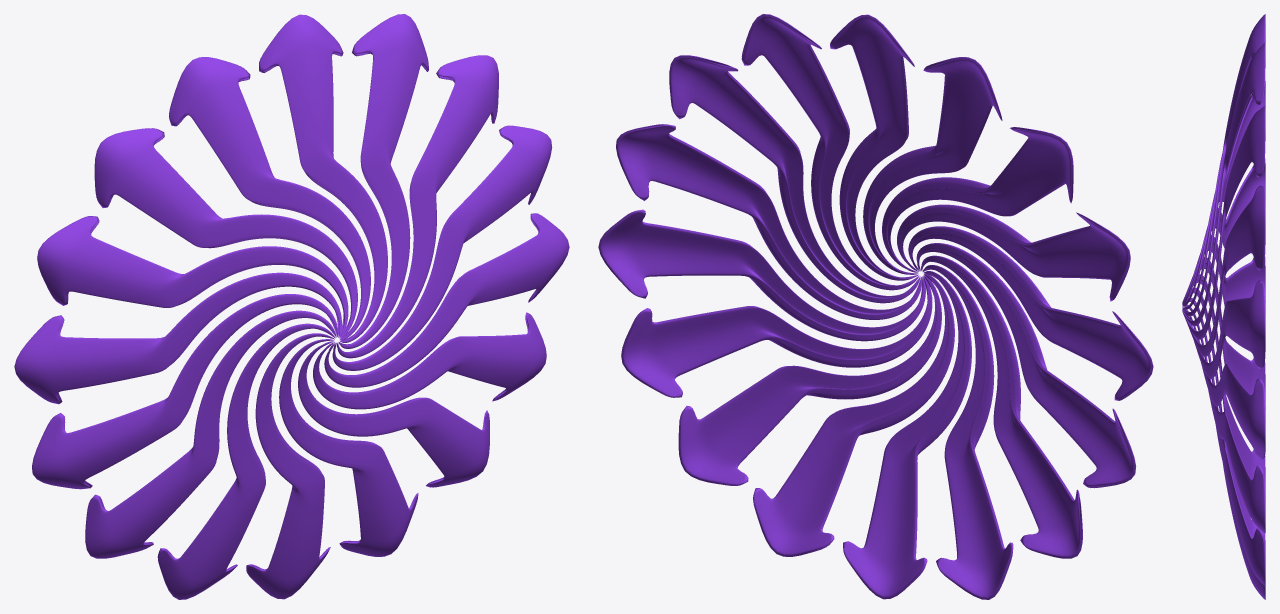
The model's file is symbol_mandala_twirl.fbx.
3 renders of one model, left to right at view 1: azimuth 30°, elevation 25°; view 2: azimuth 150°, elevation 25°; view 3: azimuth 270°, elevation 25°, orthographic. The views are drawn at different scales.
Visible parts, largest first — view 1: Object372; view 2: Object372; view 3: Object372.
Part boxes in pixels (x1=…): Object372: x1=14, y1=14, x2=569, y2=599; Object372: x1=598, y1=14, x2=1153, y2=599; Object372: x1=1182, y1=14, x2=1265, y2=599.
Bounding box in the file's own units: 4069 × 4069 × 579.
